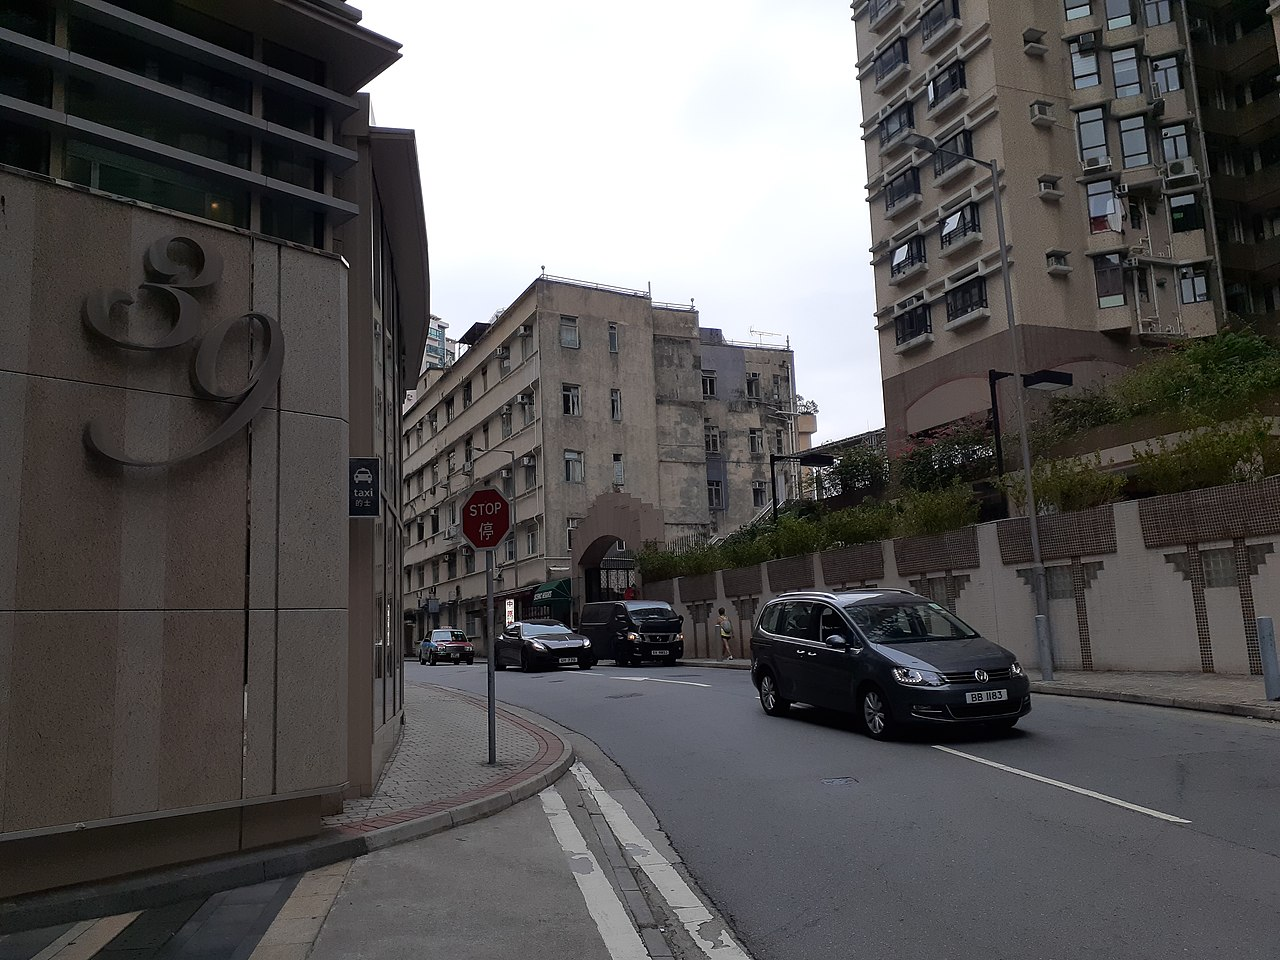Stop: (456, 484, 512, 554)
